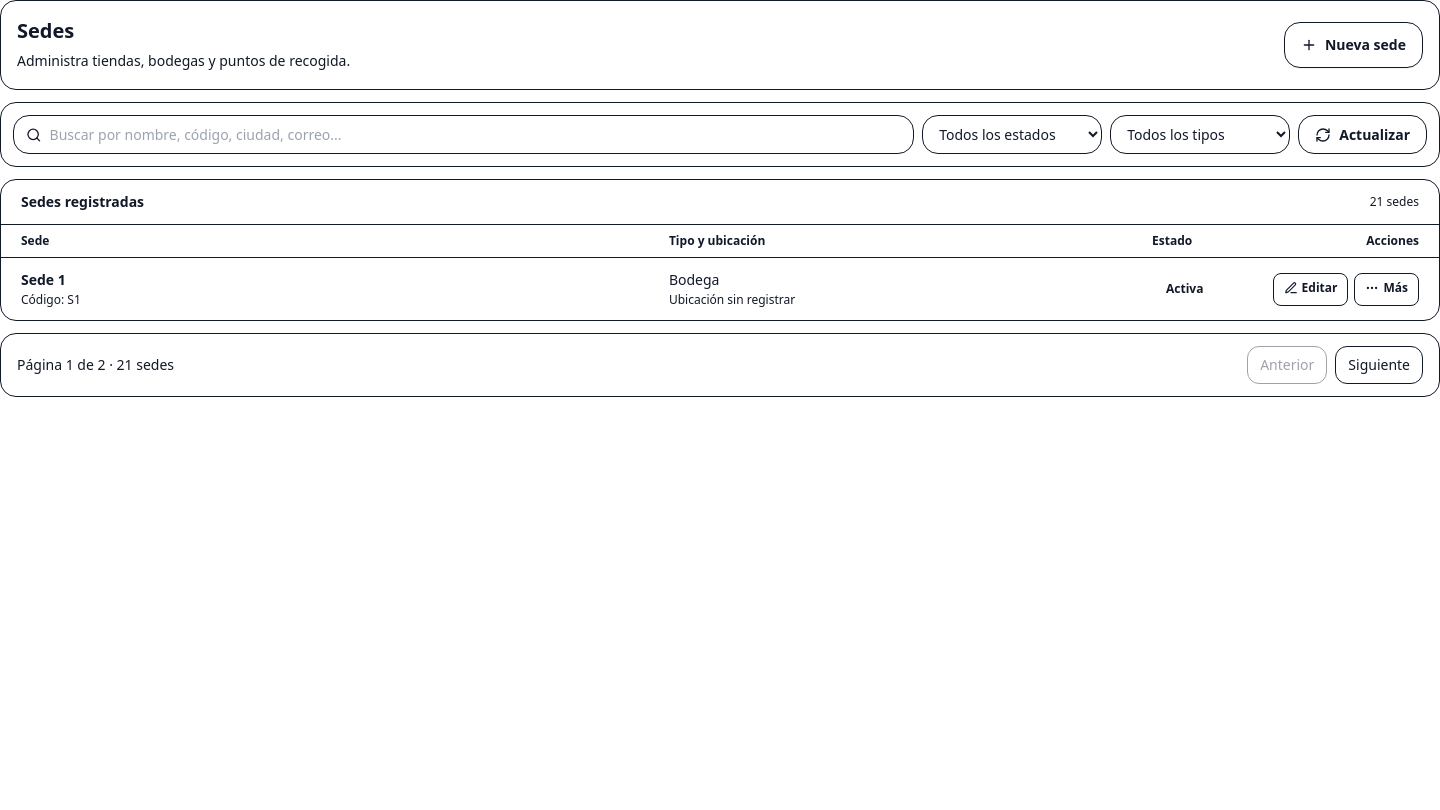
Test: explica el bloqueo dentro del editor cuando allí se cambia el estado
The width and height of the screenshot is (1440, 810).
Click the button with aria-label "Editar Sede 1" at (1311, 289), box [1273,272,1348,306]
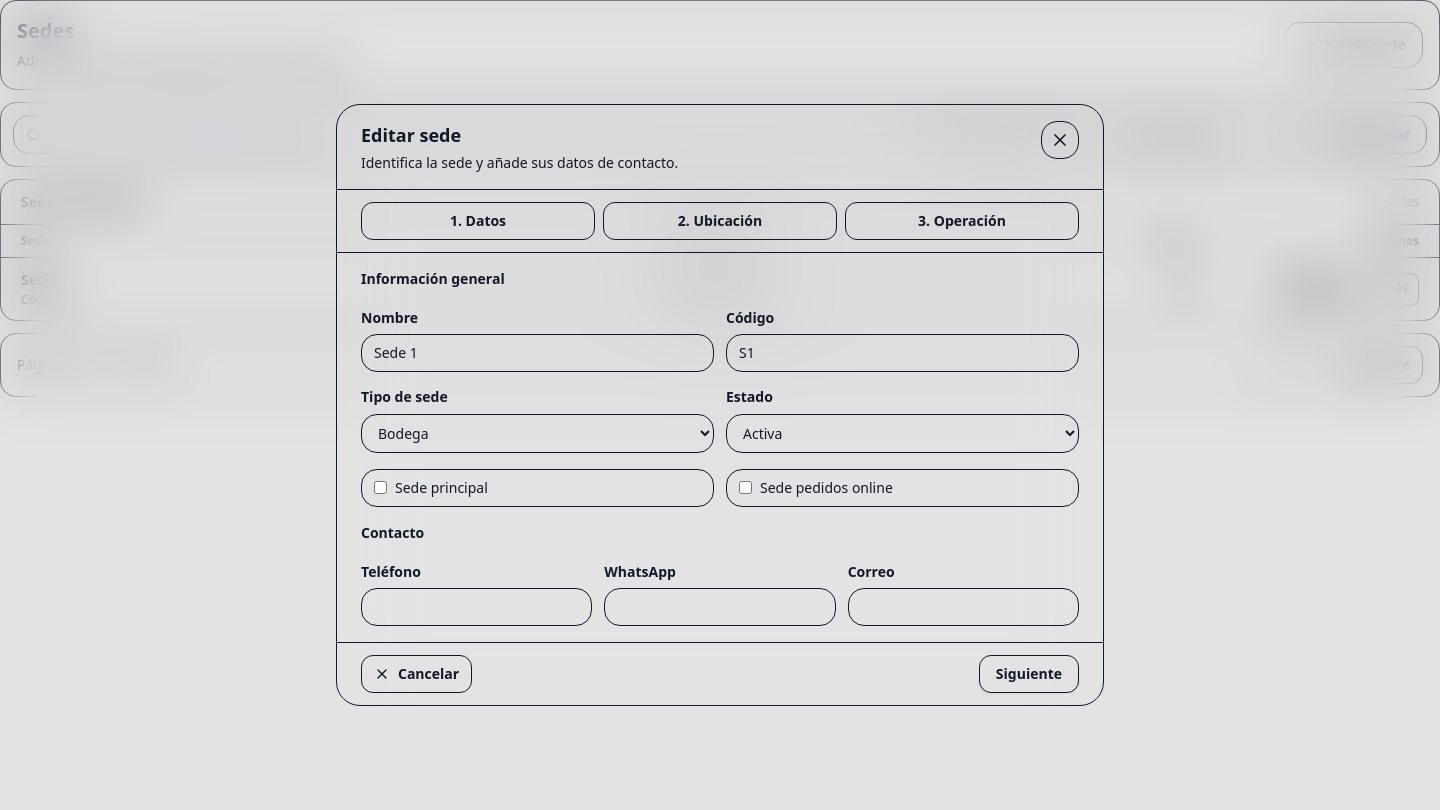
Select "Inactiva" in the dropdown labelled "Estado" at (902, 433), box [726,414,1079,453]
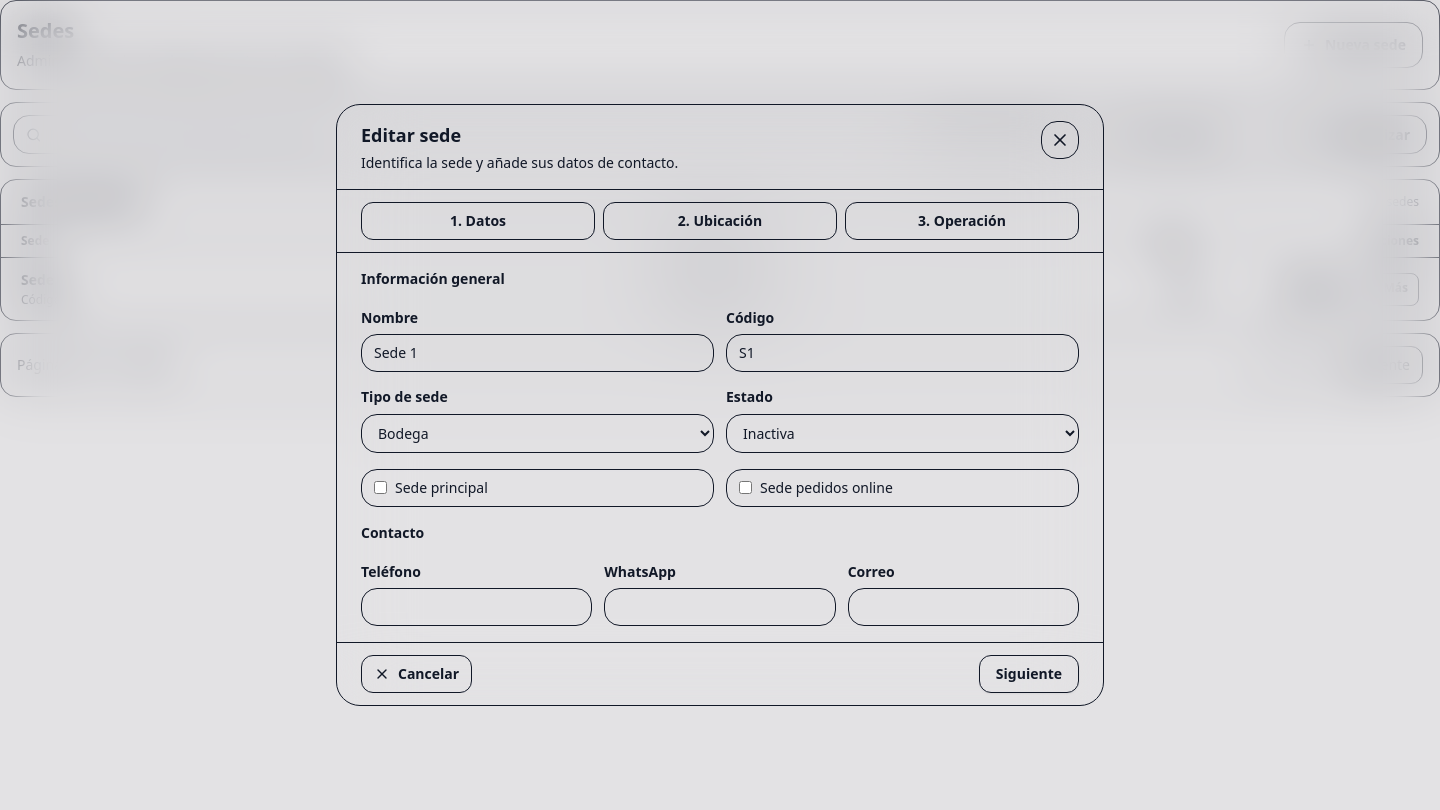
Click the button "3. Operación" at (962, 221), box [845,202,1079,240]
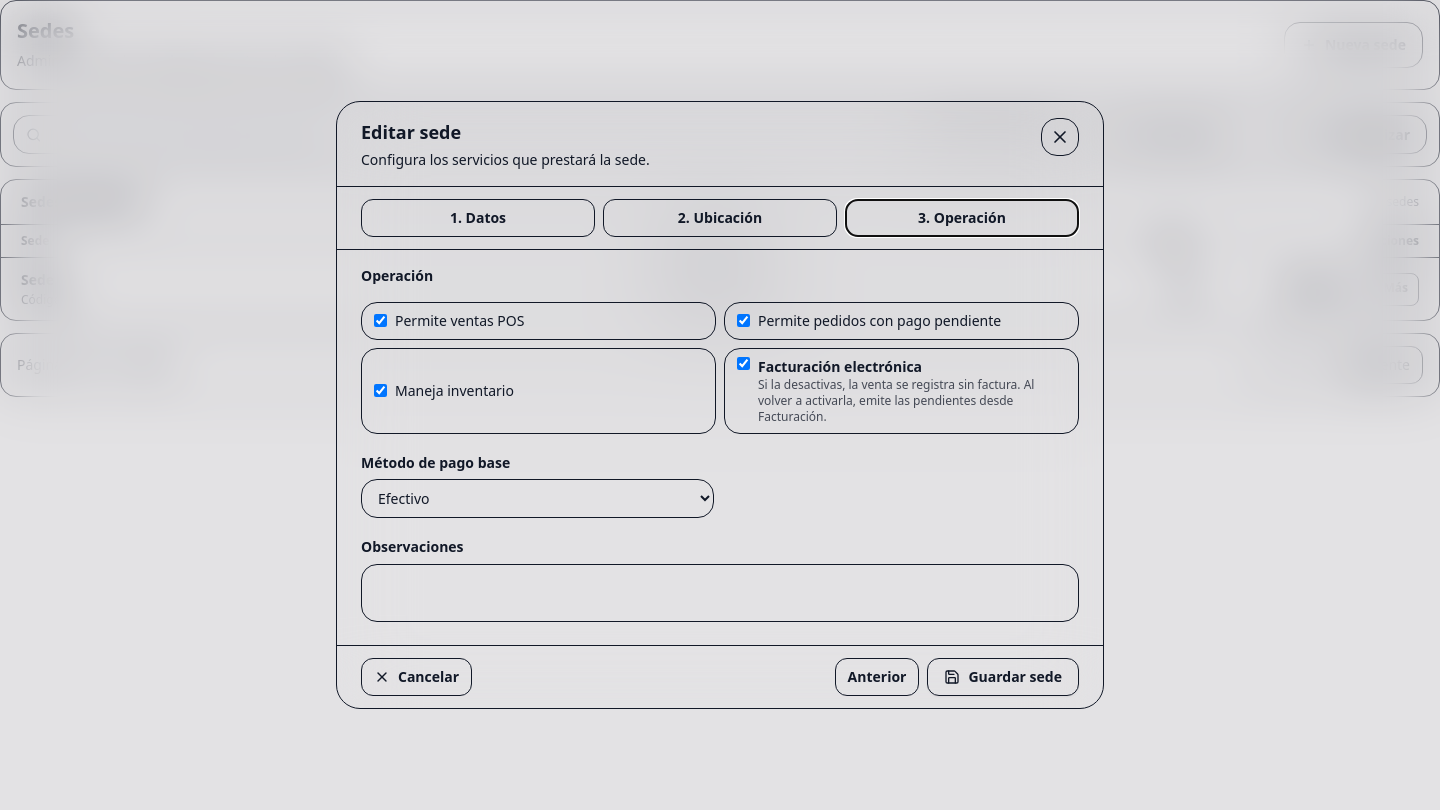
Click the button "Guardar sede" at (1003, 677), box [927,658,1079,696]
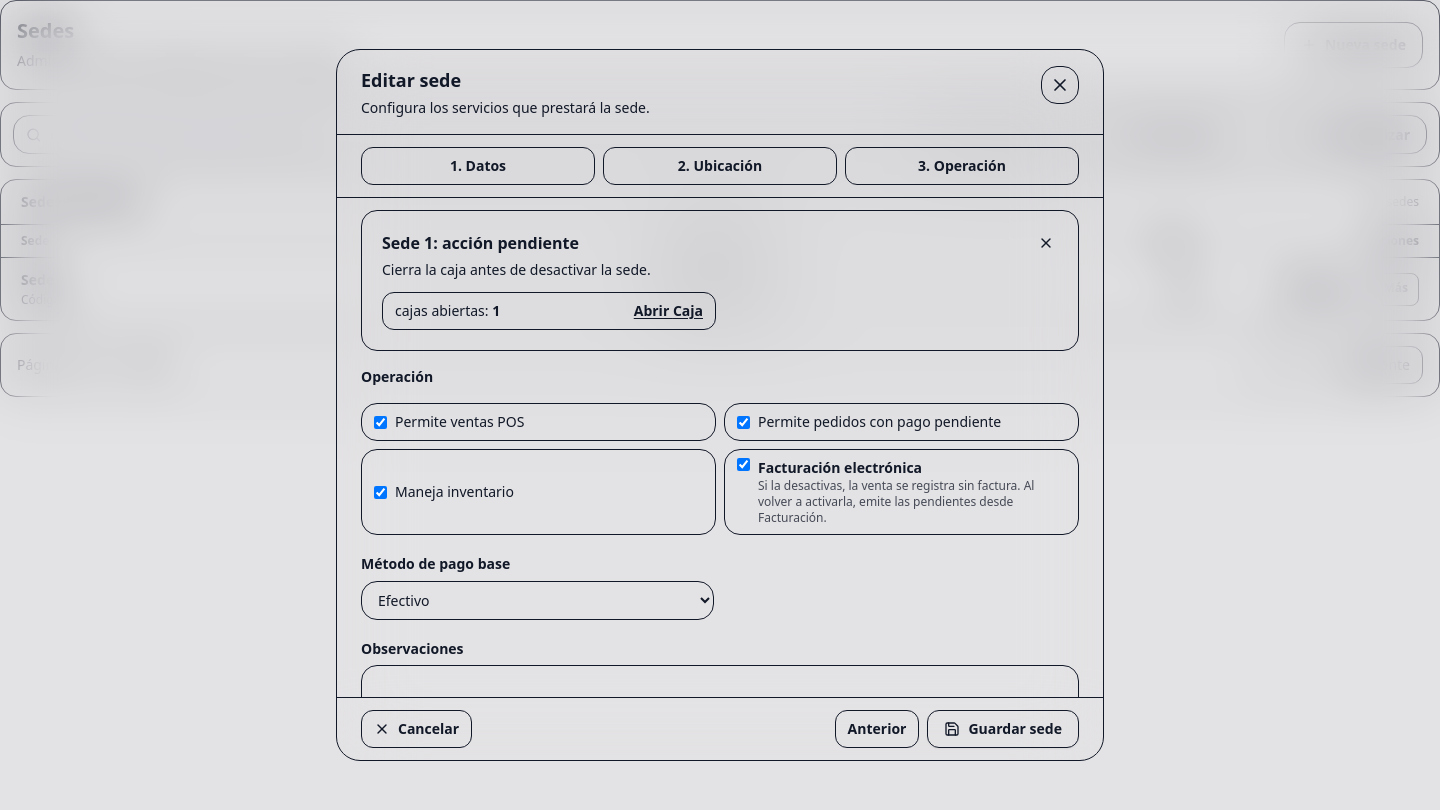
Expected: the message named "Sede con pendientes" shows "cajas abiertas: 1", [361,210,1079,351]
